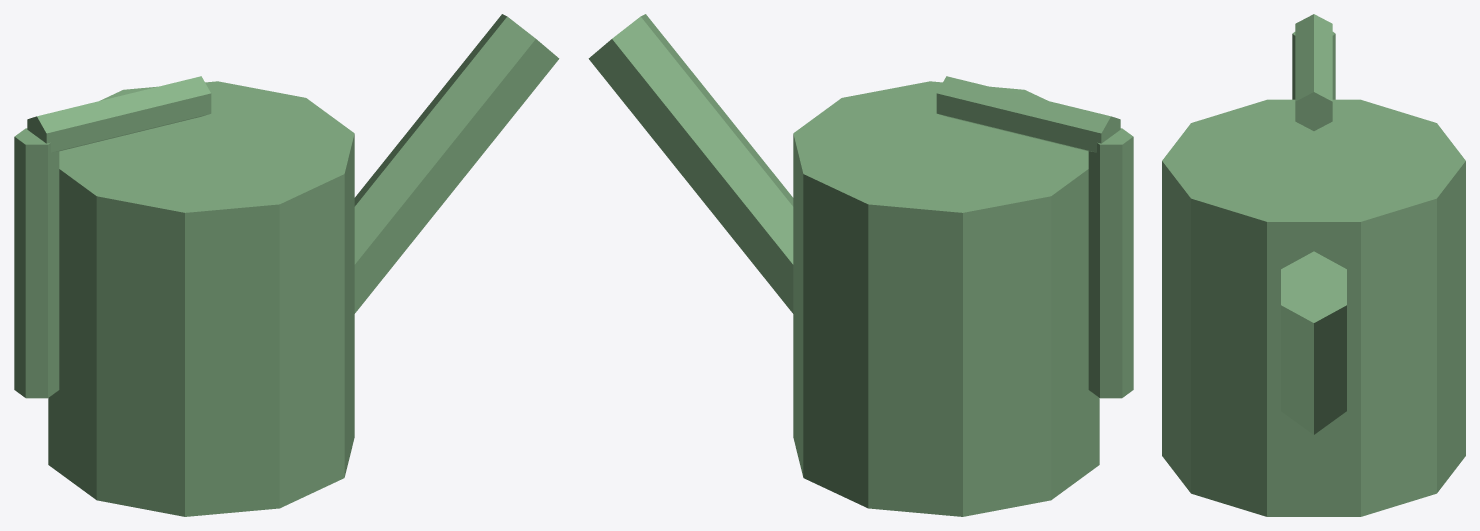
3 renders of one model, left to right at view 1: azimuth 30°, elevation 25°; view 2: azimuth 150°, elevation 25°; view 3: azimuth 270°, elevation 25°, orthographic. The views are drawn at different scales.
Parts seen in each view (by area): view 1: Can, Spout, Handle, Handle top; view 2: Can, Spout, Handle, Handle top; view 3: Can, Spout, Handle top, Handle.
Boxes of the visible parts, x1,y1,x2,y2 form: Can: [48, 81, 354, 516]; Spout: [354, 14, 559, 313]; Handle: [14, 128, 59, 398]; Handle top: [27, 76, 211, 152]; Can: [793, 81, 1099, 516]; Spout: [588, 14, 793, 313]; Handle: [1088, 128, 1133, 398]; Handle top: [936, 76, 1120, 152]; Can: [1162, 99, 1465, 516]; Spout: [1281, 251, 1346, 434]; Handle top: [1295, 14, 1332, 130]; Handle: [1292, 32, 1335, 99].
Size of the model in its own units: 0.5515 by 0.37 by 0.28.
Materials: 1 (1 with a texture image).
